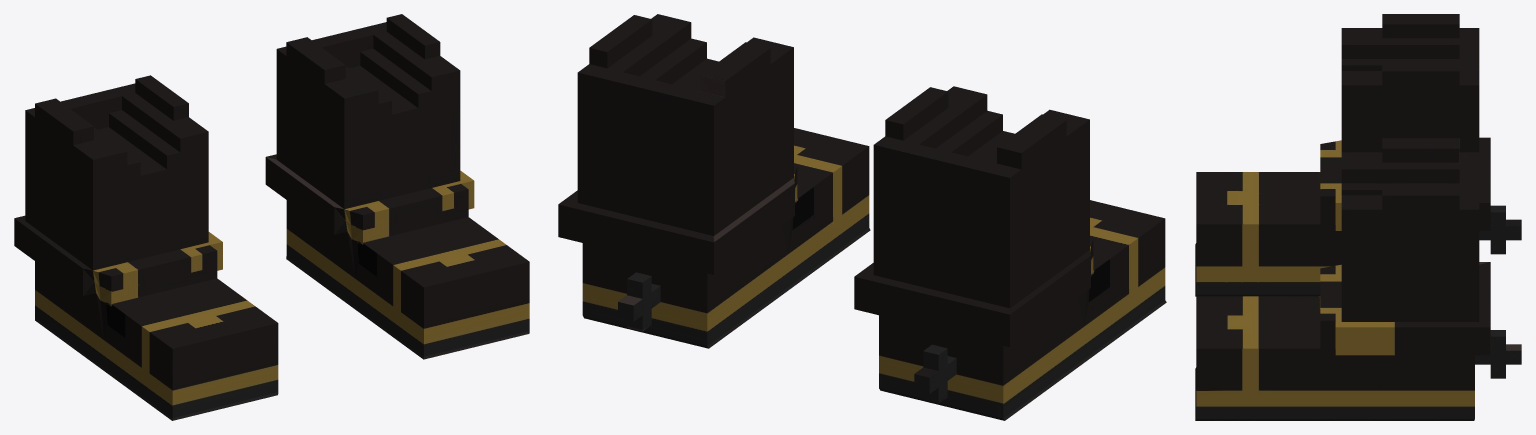
Rendered from boots_cowboy.glb.
The picture shows the model from 3 angles, left to right: view 1: azimuth 30°, elevation 25°; view 2: azimuth 150°, elevation 25°; view 3: azimuth 270°, elevation 25°; orthographic projection. The views are drawn at different scales.
Visible parts, largest first — view 1: cowboy_boots.001; view 2: cowboy_boots.001; view 3: cowboy_boots.001.
Part boxes in pixels (x1,y1,x2,y2): cowboy_boots.001: (14,14,529,420); cowboy_boots.001: (558,14,1166,420); cowboy_boots.001: (1195,14,1521,420).
Bounding box in the file's own units: 2.9 × 1.62 × 2.11.
1 material, 1 textured.
